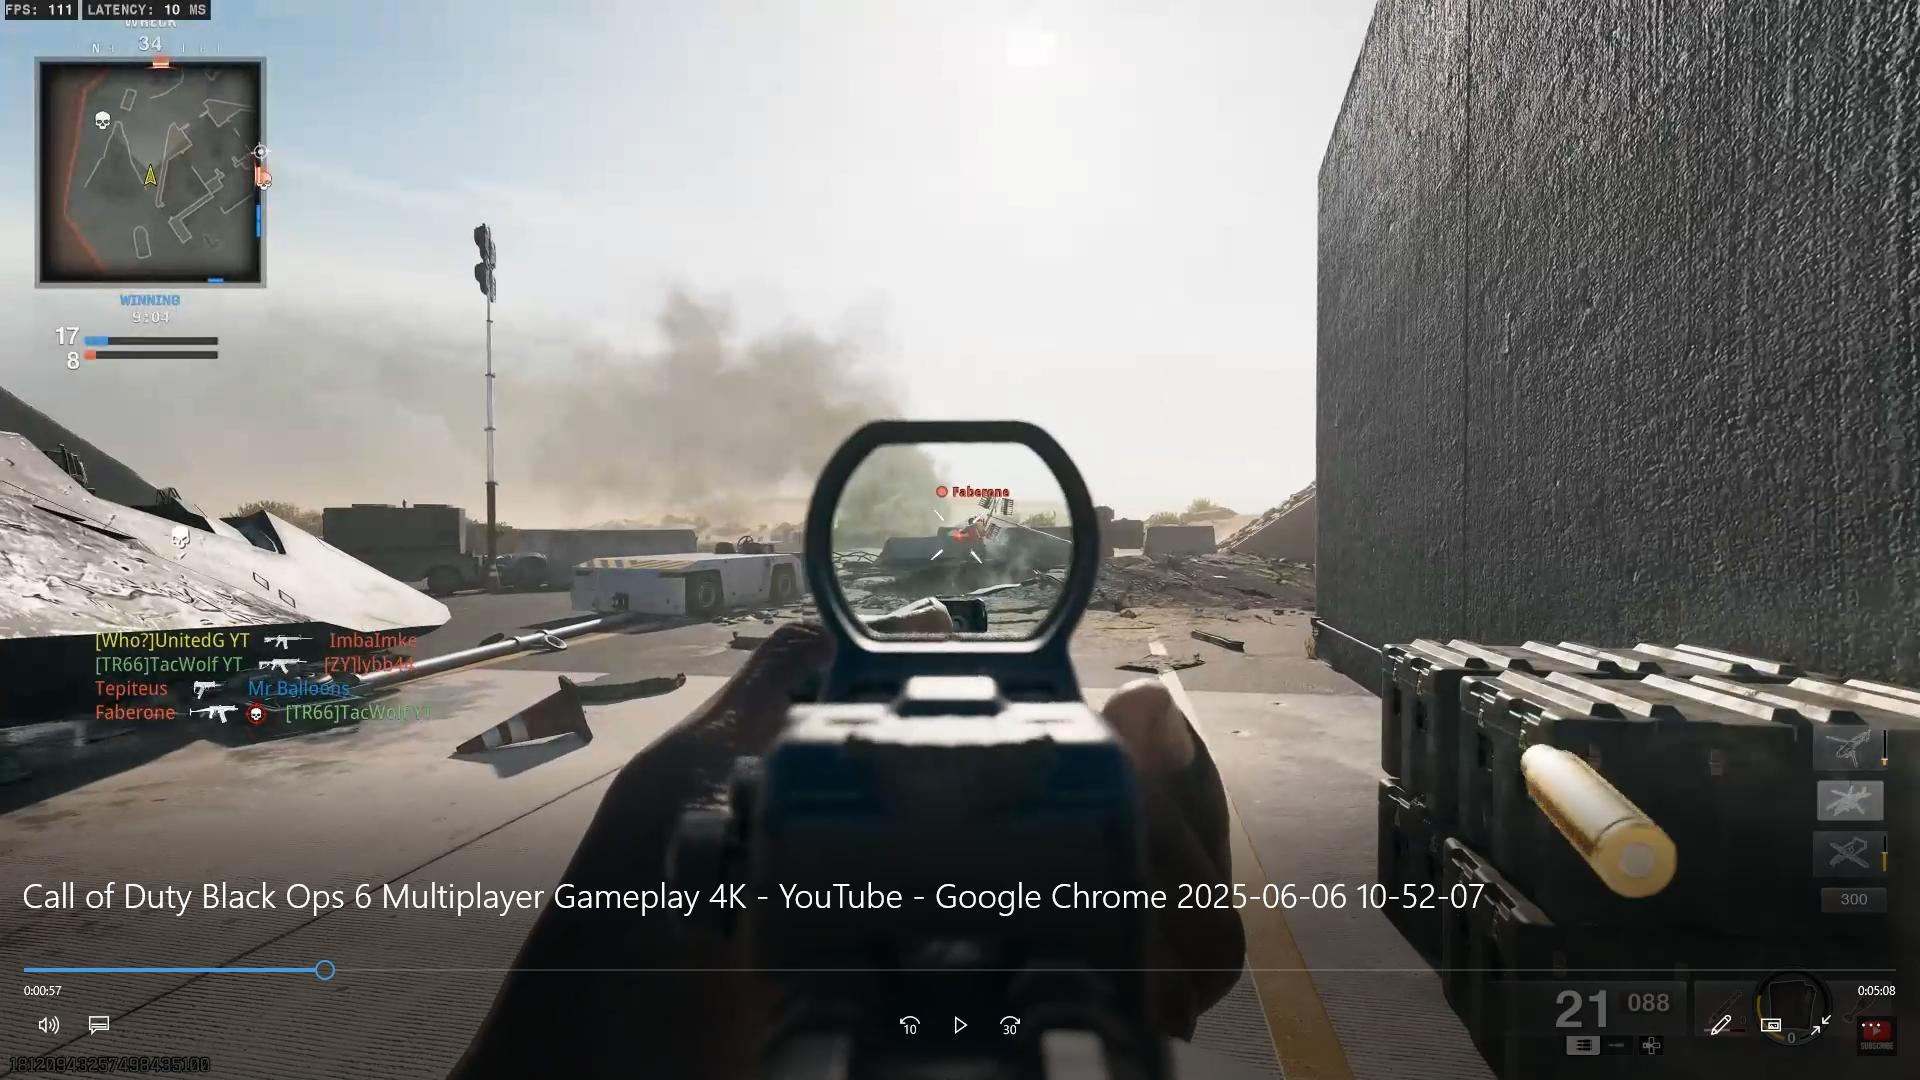Enemy: (940, 483, 1009, 580)
